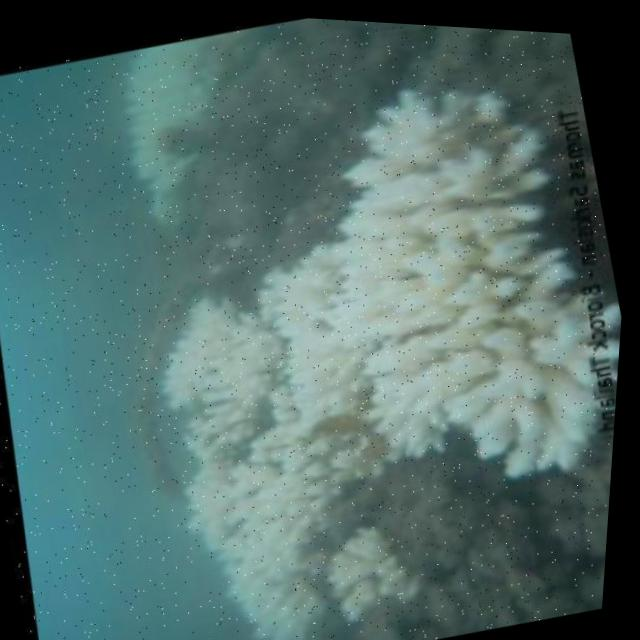Bleached Coral: (287, 25, 639, 531), (101, 225, 454, 640), (67, 22, 258, 241)
